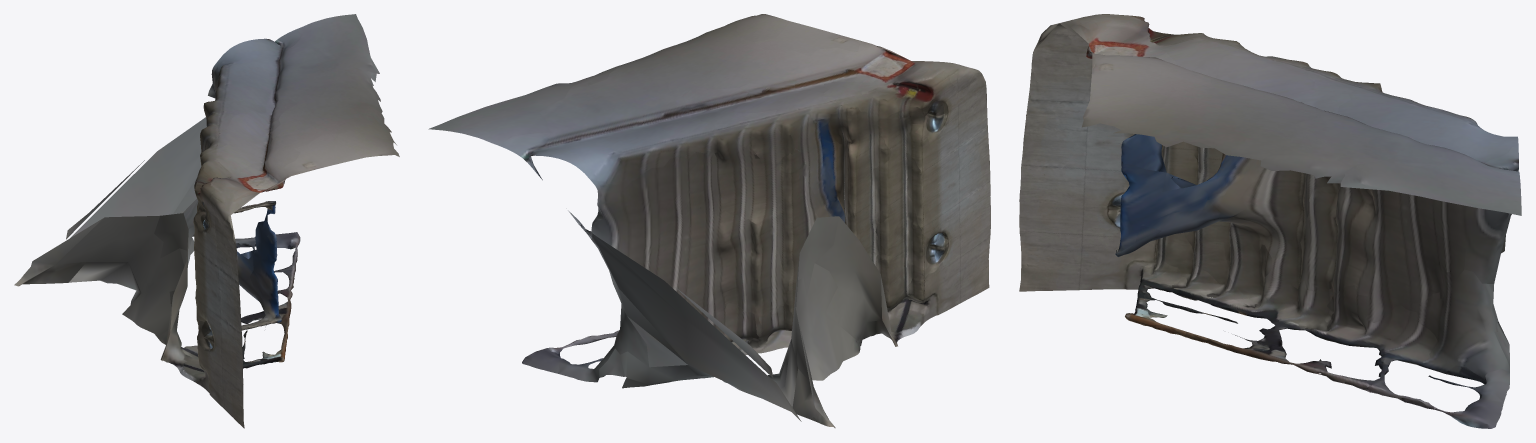
File: 계단내려가는쪽.fbx
3 renders of one model, left to right at view 1: azimuth 30°, elevation 25°; view 2: azimuth 150°, elevation 25°; view 3: azimuth 270°, elevation 25°, orthographic. The views are drawn at different scales.
Parts seen in each view (by area): view 1: Untitled; view 2: Untitled; view 3: Untitled.
Part boxes in pixels (x1,y1,x2,y2): Untitled: (14, 14, 399, 428); Untitled: (428, 14, 990, 428); Untitled: (1019, 14, 1521, 428).
Bounding box in the file's own units: 135 × 80.84 × 127.
Materials: 1 (1 with a texture image).
